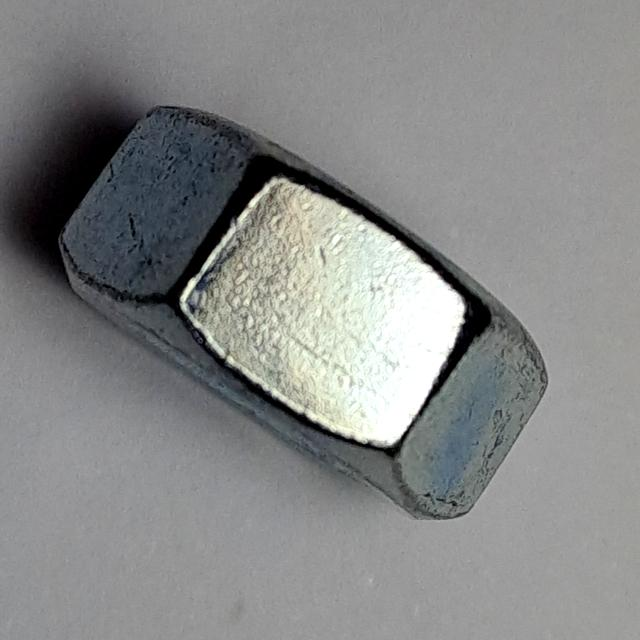Side_Excellent: (53, 94, 567, 531)
